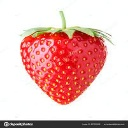strawberry: (18, 20, 111, 105)
